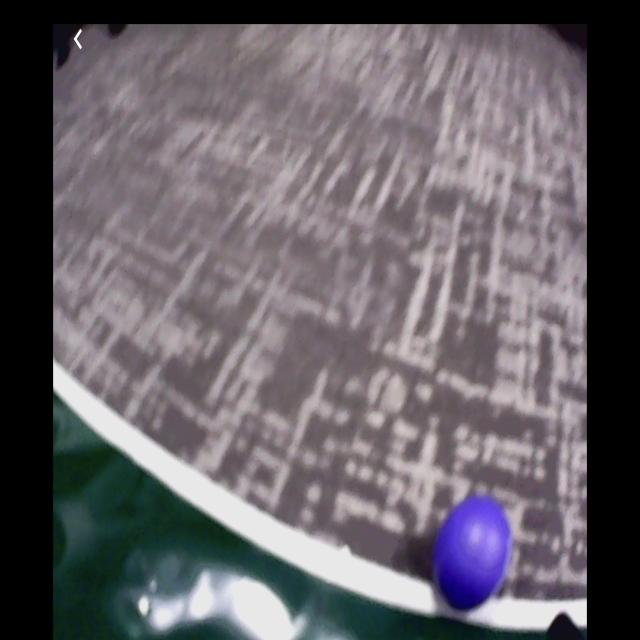ball: (435, 498, 510, 613)
